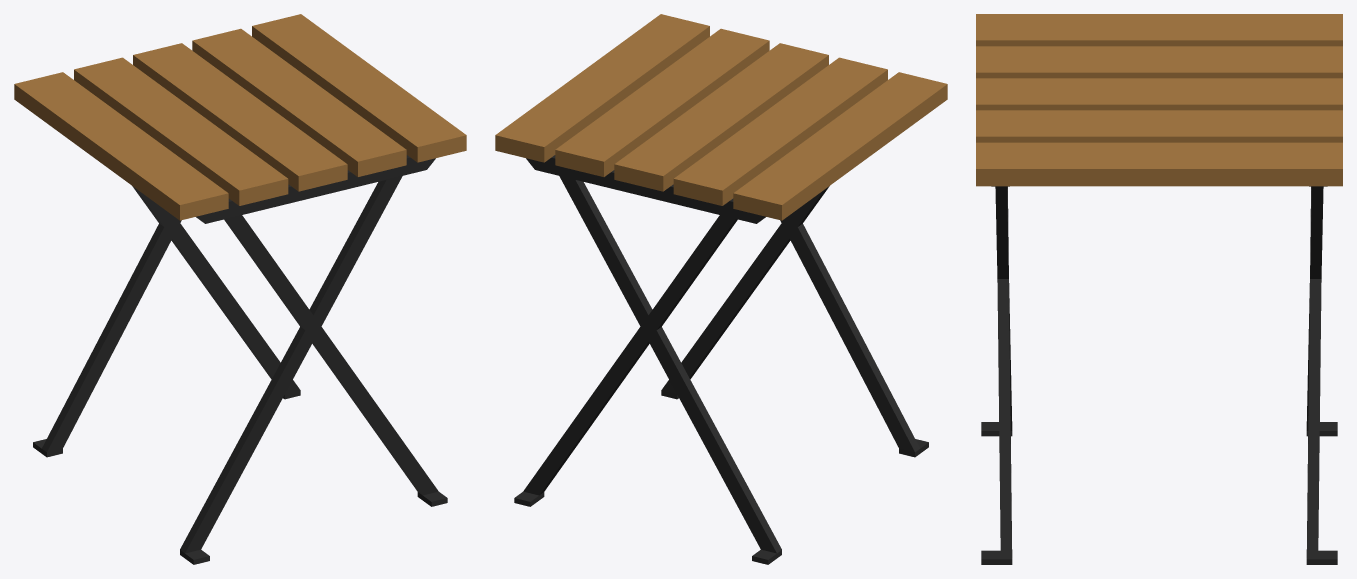
File: furniture_table-outside-small.fbx
The picture shows the model from 3 angles, left to right: view 1: azimuth 30°, elevation 25°; view 2: azimuth 150°, elevation 25°; view 3: azimuth 270°, elevation 25°; orthographic projection. The views are drawn at different scales.
Visible parts, largest first — view 1: furniture_table_outside_small; view 2: furniture_table_outside_small; view 3: furniture_table_outside_small.
Boxes of the visible parts, x1,y1,x2,y2 form: furniture_table_outside_small: (14, 14, 466, 564); furniture_table_outside_small: (495, 14, 947, 564); furniture_table_outside_small: (976, 14, 1342, 564).
Size of the model in its own units: 164 by 200 by 164.
